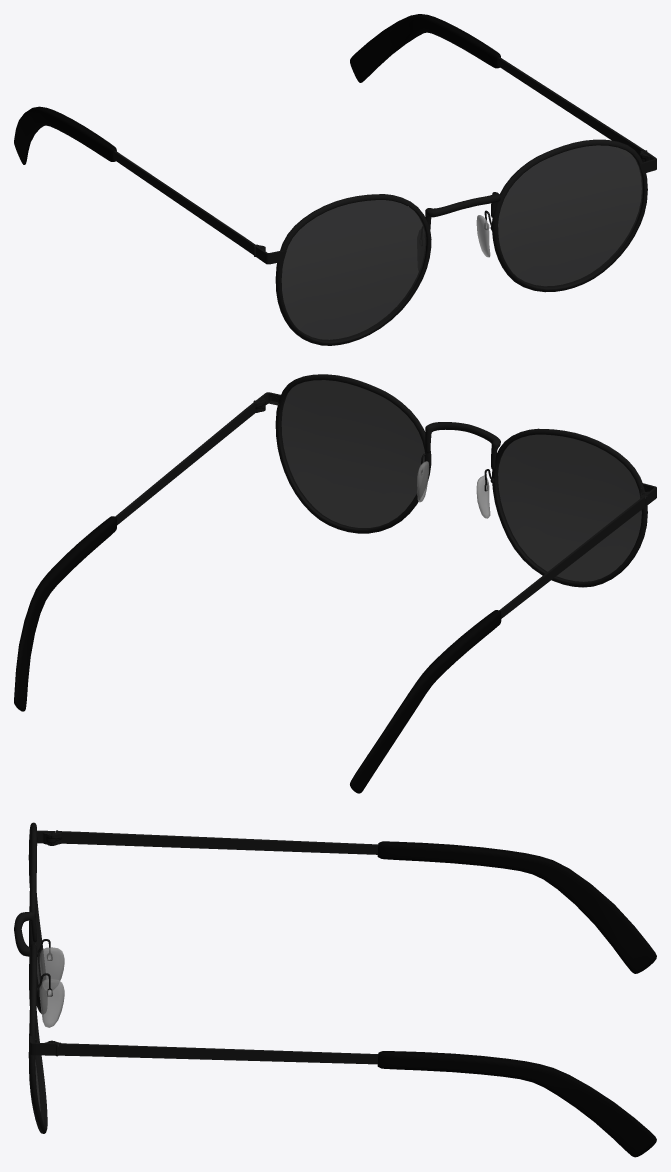
The model's file is tommy.glb.
The picture shows the model from 3 angles, top to bottom: view 1: azimuth 30°, elevation 25°; view 2: azimuth 150°, elevation 25°; view 3: azimuth 270°, elevation 25°; orthographic projection. The views are drawn at different scales.
Visible parts, largest first — view 1: Glass_04; view 2: Glass_04; view 3: Glass_04.
Boxes of the visible parts, x1,y1,x2,y2 form: Glass_04: (14, 14, 656, 345); Glass_04: (14, 374, 656, 793); Glass_04: (14, 822, 656, 1157).
Bounding box in the file's own units: 0.1535 × 0.056 × 0.1943.
Materials: 1 (1 with a texture image).
